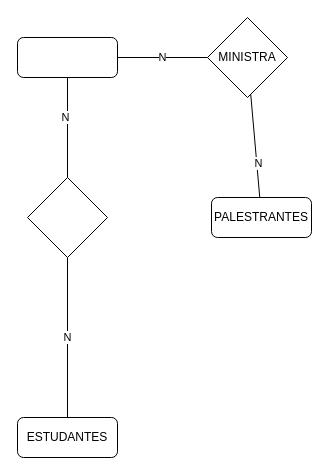
Some shapes in this 329 by 475 pixel diagram are drawn without their labels. The centre of each missing label's shape, as x and y in pixels:
EVENTO: pixel 67 57
INSCRIÇÃO: pixel 67 217
